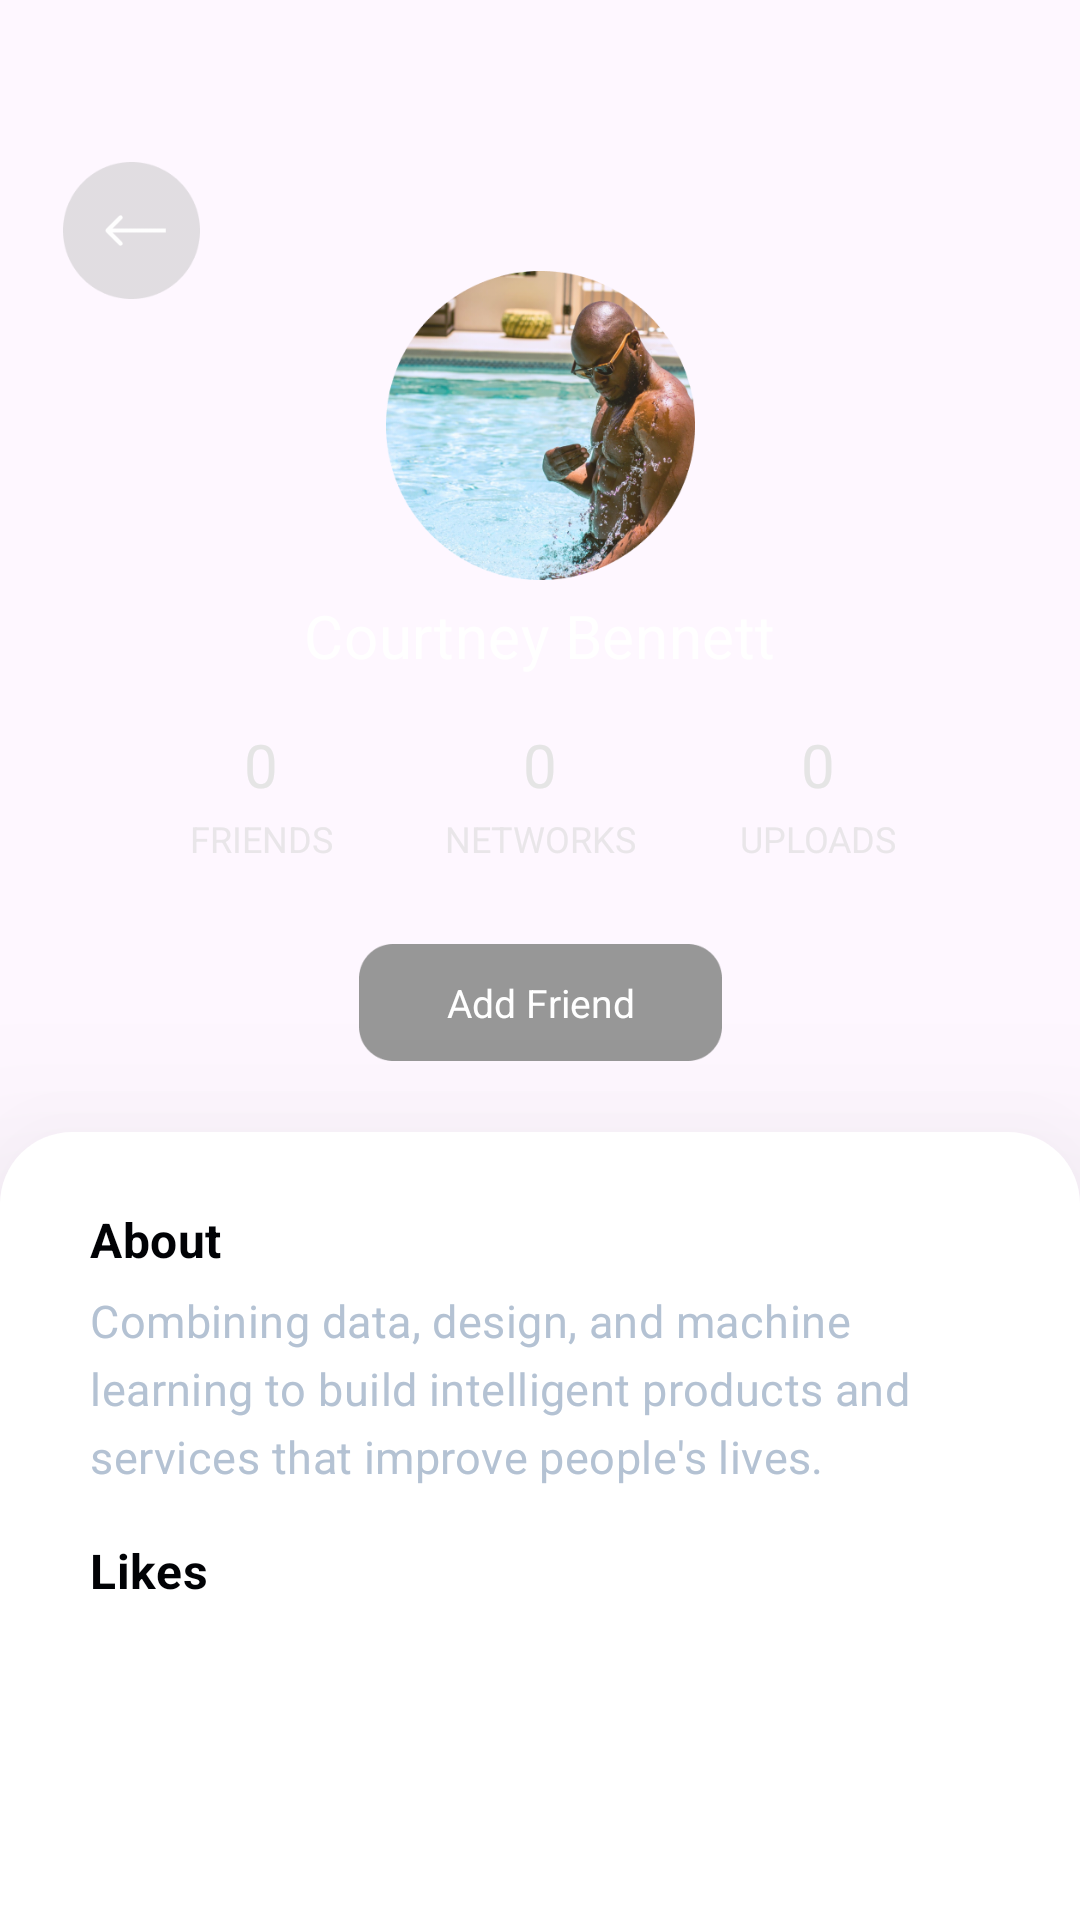

Screen size 1080w x 1920h. Icon name, then its box in pixels as (x1, y1, x2, y2):
back: (63, 162, 200, 299)
